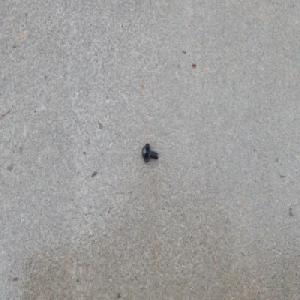BoltWasher: (141, 143, 158, 163)
